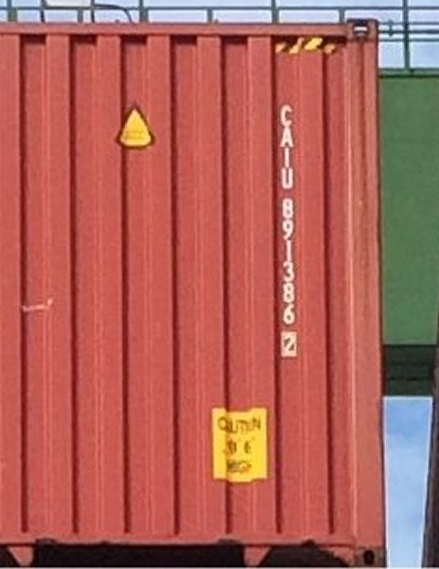container_no_door: (3, 15, 380, 563)
